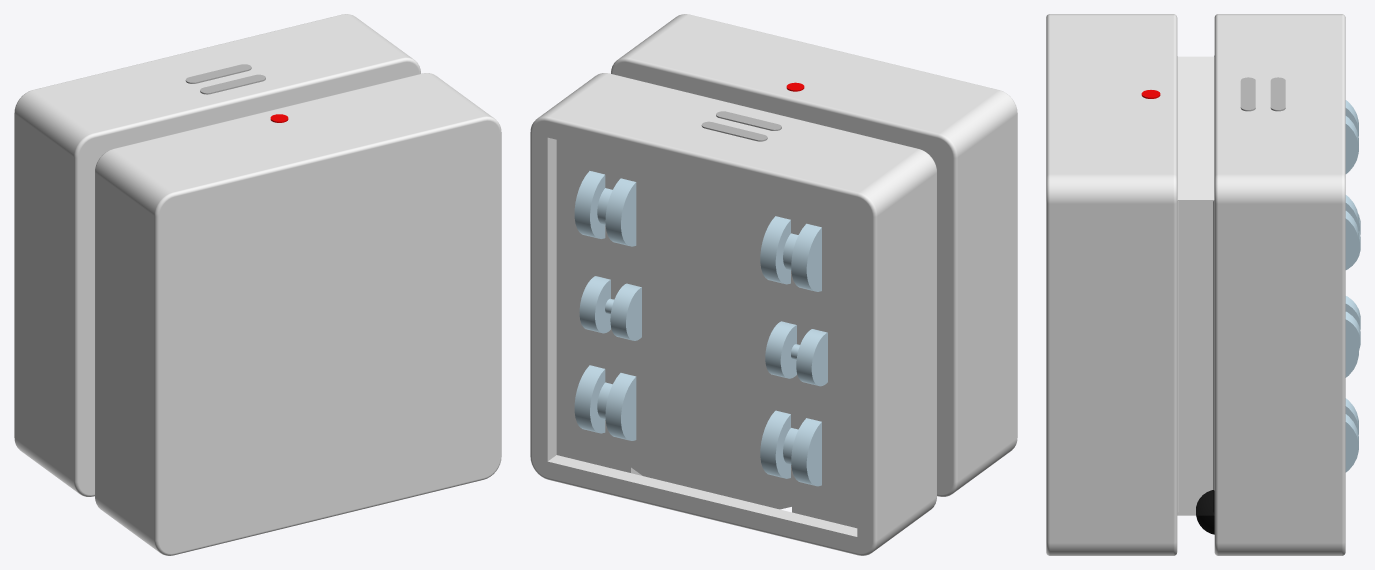
Rendered from robot_3.glb.
3 views of the same model, side by side, from view 1: azimuth 30°, elevation 25°; view 2: azimuth 150°, elevation 25°; view 3: azimuth 270°, elevation 25° (orthographic). The views are drawn at different scales.
Parts seen in each view (by area): view 1: Body, Back gray bars; view 2: Body, Castor wheel, Castor wheel.003, Castor wheel.001, Castor wheel.002, Driver wheel.001, Driver wheel, Back gray bars, Front panel; view 3: Body, Cube, Back gray bars, Driver wheel, Castor wheel, Castor wheel.001, Castor wheel.003, LiDAR 1.
Part boxes in pixels (<box>): Body: <box>14,14,501,555</box>; Back gray bars: <box>185,64,265,94</box>; Body: <box>530,14,1017,555</box>; Castor wheel: <box>574,365,636,440</box>; Castor wheel.003: <box>574,171,636,246</box>; Castor wheel.001: <box>760,216,821,291</box>; Castor wheel.002: <box>760,410,821,486</box>; Driver wheel.001: <box>765,321,827,386</box>; Driver wheel: <box>579,276,641,340</box>; Back gray bars: <box>701,111,781,141</box>; Front panel: <box>631,466,791,509</box>; Body: <box>1046,14,1345,555</box>; Cube: <box>1177,56,1214,515</box>; Back gray bars: <box>1240,77,1285,111</box>; Driver wheel: <box>1345,296,1360,364</box>; Castor wheel: <box>1345,398,1358,472</box>; Castor wheel.001: <box>1345,100,1358,173</box>; Castor wheel.003: <box>1345,195,1358,268</box>; LiDAR 1: <box>1196,490,1214,534</box>.
Size of the model in its own units: 0.56 by 0.5625 by 0.4202.
